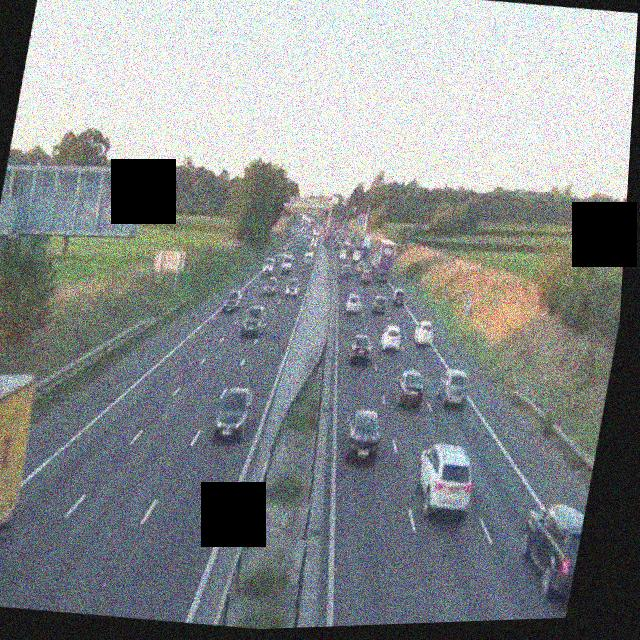car: (512, 499, 586, 603), (408, 438, 480, 523), (340, 405, 385, 464), (212, 384, 255, 444), (433, 366, 471, 410), (392, 368, 428, 411), (347, 330, 375, 366), (239, 303, 267, 339), (379, 322, 404, 353), (411, 320, 436, 345), (221, 289, 243, 316), (343, 291, 363, 316), (261, 272, 278, 296), (284, 276, 300, 298), (278, 252, 294, 273), (261, 256, 276, 276), (392, 287, 407, 305), (358, 268, 372, 285), (340, 264, 353, 278), (304, 248, 316, 263), (337, 249, 347, 262)
truck: (0, 365, 43, 607), (369, 238, 397, 281)
